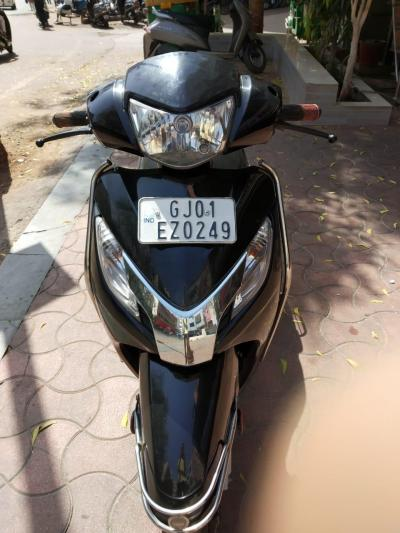doublelinenumberplate: (136, 196, 237, 245)
